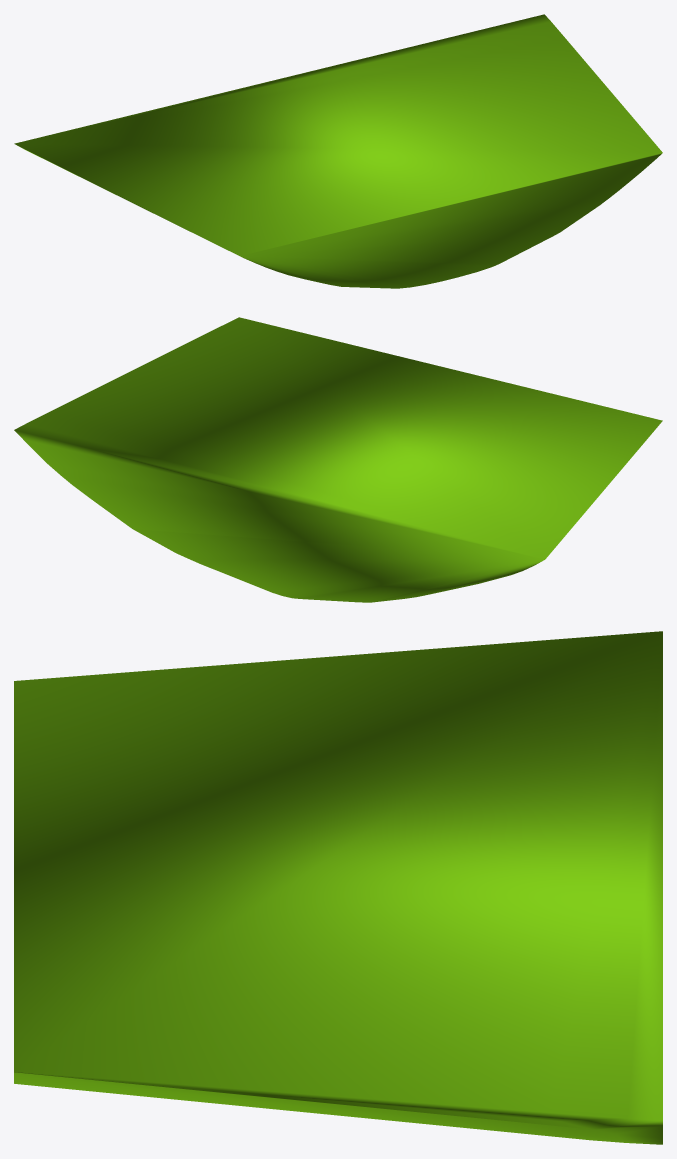
Rendered from bee_toy_1_coacd_single_link_urdf_convex_piece_4.obj.
3 renders of one model, top to bottom at view 1: azimuth 30°, elevation 25°; view 2: azimuth 150°, elevation 25°; view 3: azimuth 270°, elevation 25°, orthographic. The views are drawn at different scales.
Size of the model in its own units: 0.1133 by 0.0205 by 0.0634.
